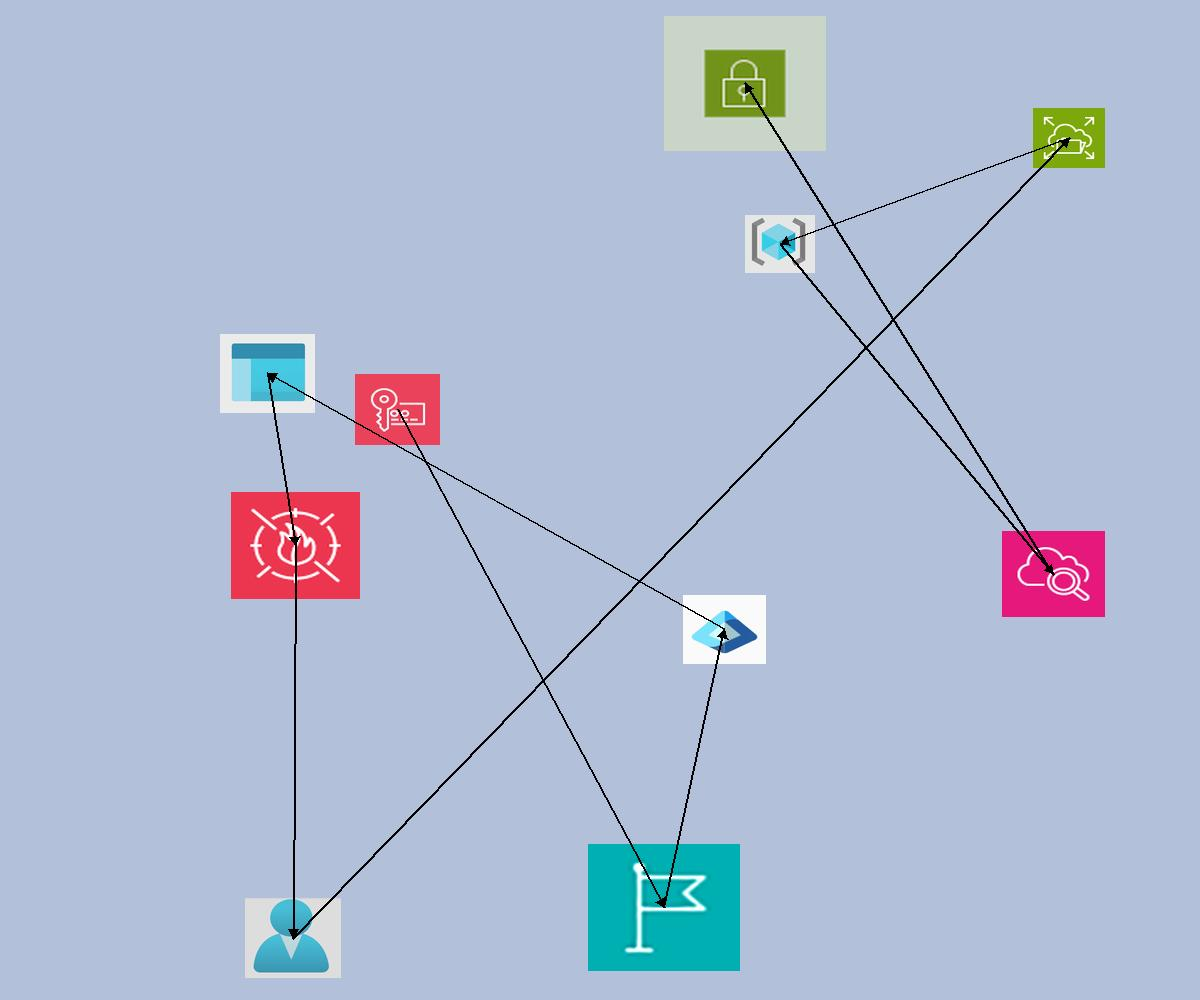AWS-CloudWatch: (1002, 531, 1105, 617)
AWS-EFS: (1033, 108, 1105, 168)
AWS-Key-Management-Service: (355, 374, 440, 445)
AWS-Public-subnet: (664, 16, 826, 151)
AWS-Region: (588, 844, 740, 971)
AWS-WAF: (231, 492, 360, 599)
Azure_management-portal: (220, 334, 315, 413)
Azure_microsoft_entra: (683, 595, 766, 664)
Azure_resource_group: (745, 215, 815, 273)
Azure_users: (245, 898, 341, 978)
